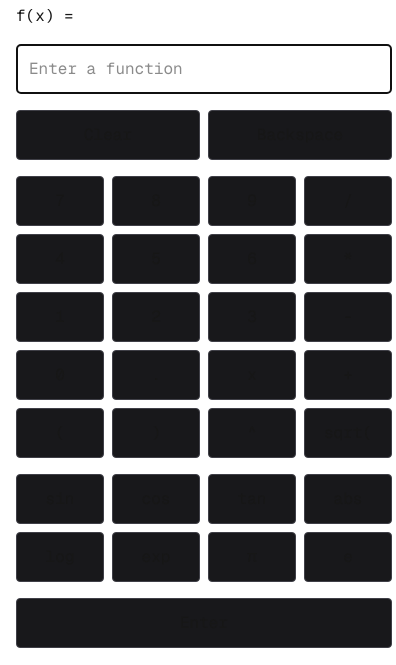
Test: FunctionInput Component › calculator buttons insert characters
Click the button "7" at (60, 201), box [16,176,104,226]
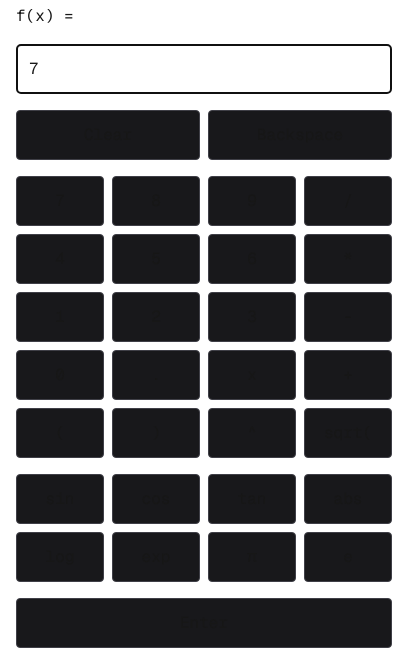
Now the field named "function" holds "7", box [16,44,392,94]
